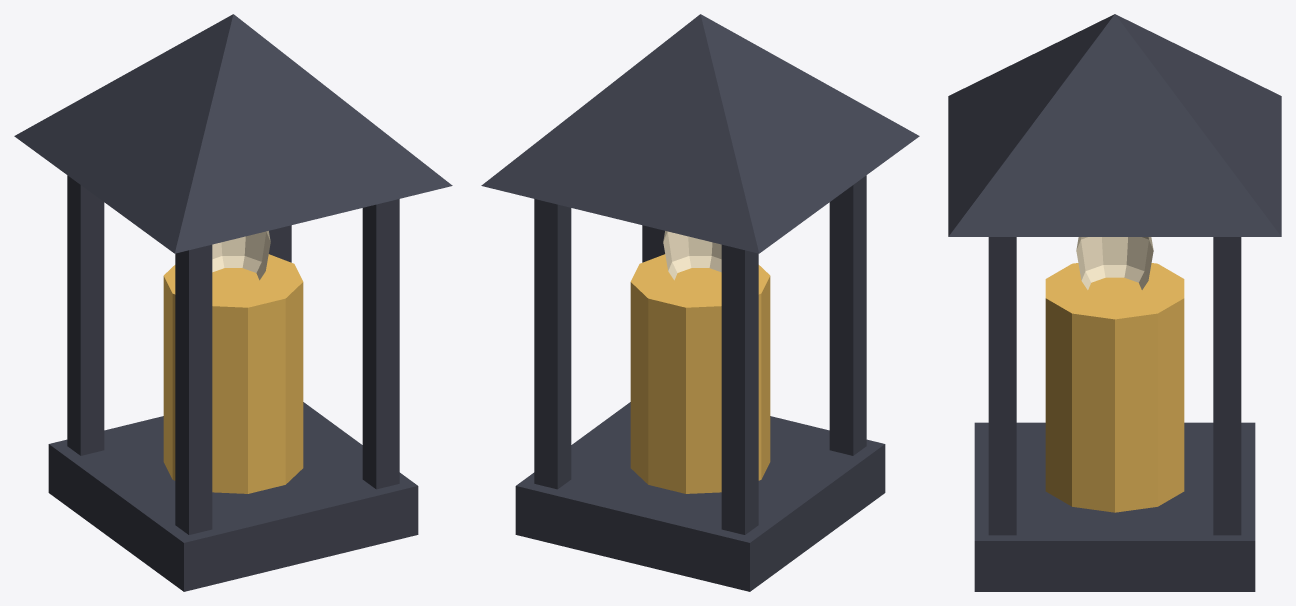
Rendered from turning-seasons-winter-lantern-dc1a8170.glb.
3 renders of one model, left to right at view 1: azimuth 30°, elevation 25°; view 2: azimuth 150°, elevation 25°; view 3: azimuth 270°, elevation 25°, orthographic. The views are drawn at different scales.
Visible parts, largest first — view 1: winter-lantern; view 2: winter-lantern; view 3: winter-lantern.
Part boxes in pixels (x1=…): winter-lantern: x1=14, y1=14, x2=452, y2=591; winter-lantern: x1=481, y1=14, x2=919, y2=591; winter-lantern: x1=948, y1=14, x2=1281, y2=591.
Size of the model in its own units: 0.297 by 0.51 by 0.297.
